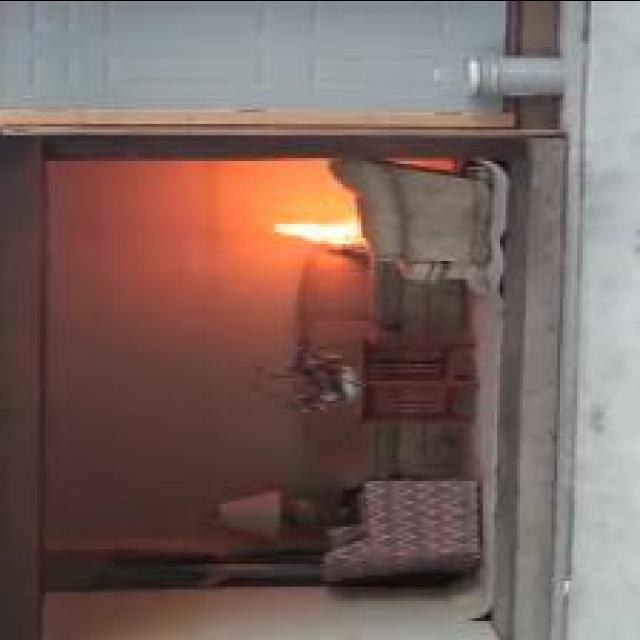Fire: (274, 217, 366, 243)
